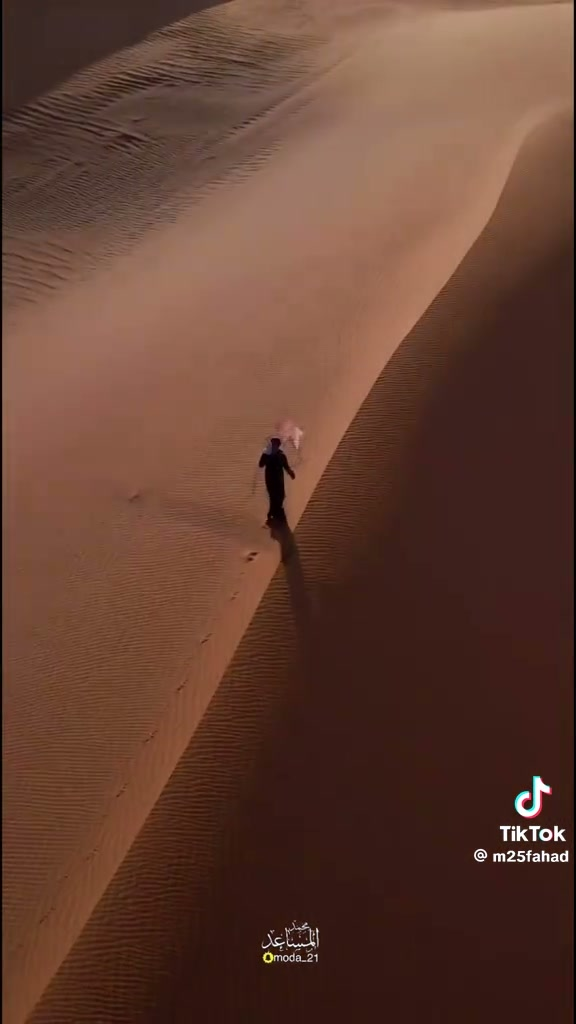human_footprint: (155, 678, 199, 699), (135, 718, 170, 740), (190, 625, 218, 649), (215, 590, 245, 612), (240, 545, 265, 565), (105, 783, 140, 797)
